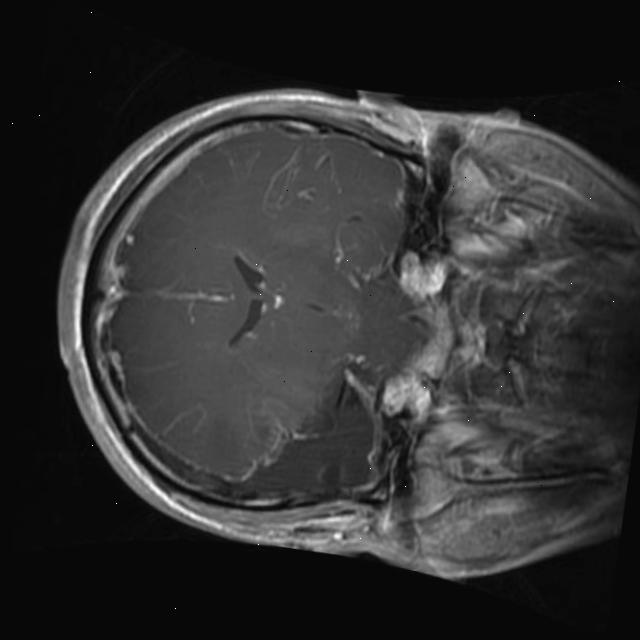Glioma: (233, 363, 387, 523)
Pituitary: (401, 292, 463, 381)
